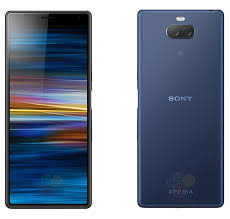sony: (134, 6, 224, 209)
